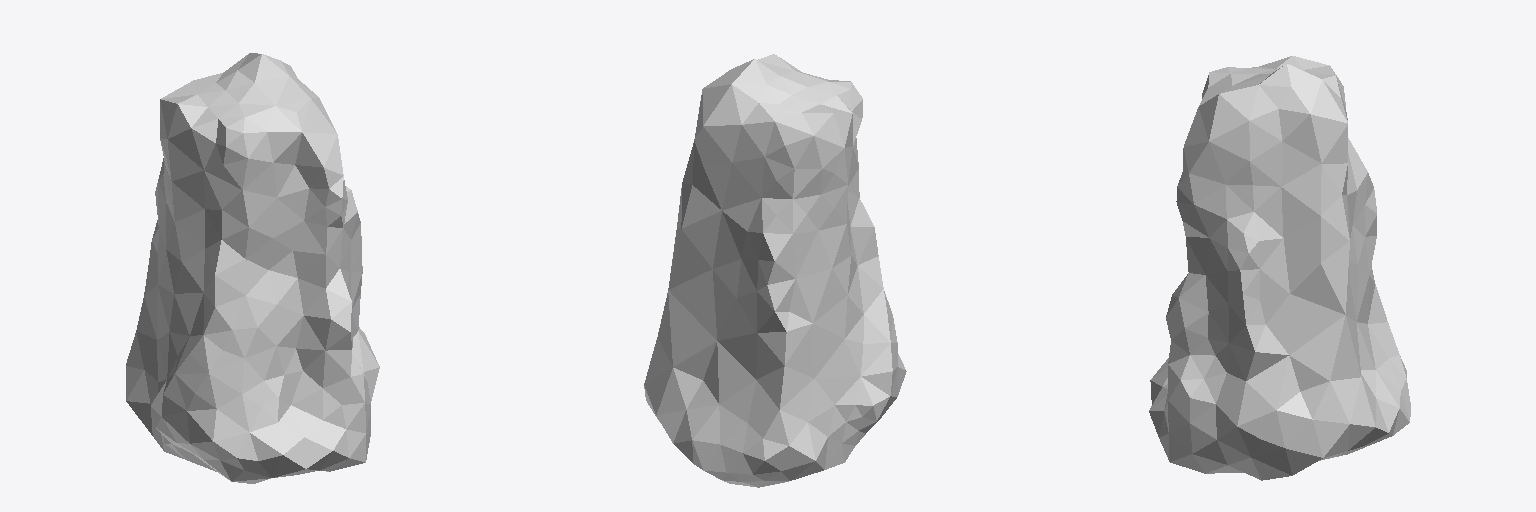
The model's file is rockF.obj.
3 renders of one model, left to right at view 1: azimuth 30°, elevation 25°; view 2: azimuth 150°, elevation 25°; view 3: azimuth 270°, elevation 25°, orthographic.
Parts seen in each view (by area): view 1: RockSet05F; view 2: RockSet05F; view 3: RockSet05F.
Boxes of the visible parts, x1,y1,x2,y2 form: RockSet05F: [126, 53, 379, 483]; RockSet05F: [644, 54, 906, 487]; RockSet05F: [1149, 56, 1410, 480].
Bounding box in the file's own units: 1.37 × 2.37 × 1.43.